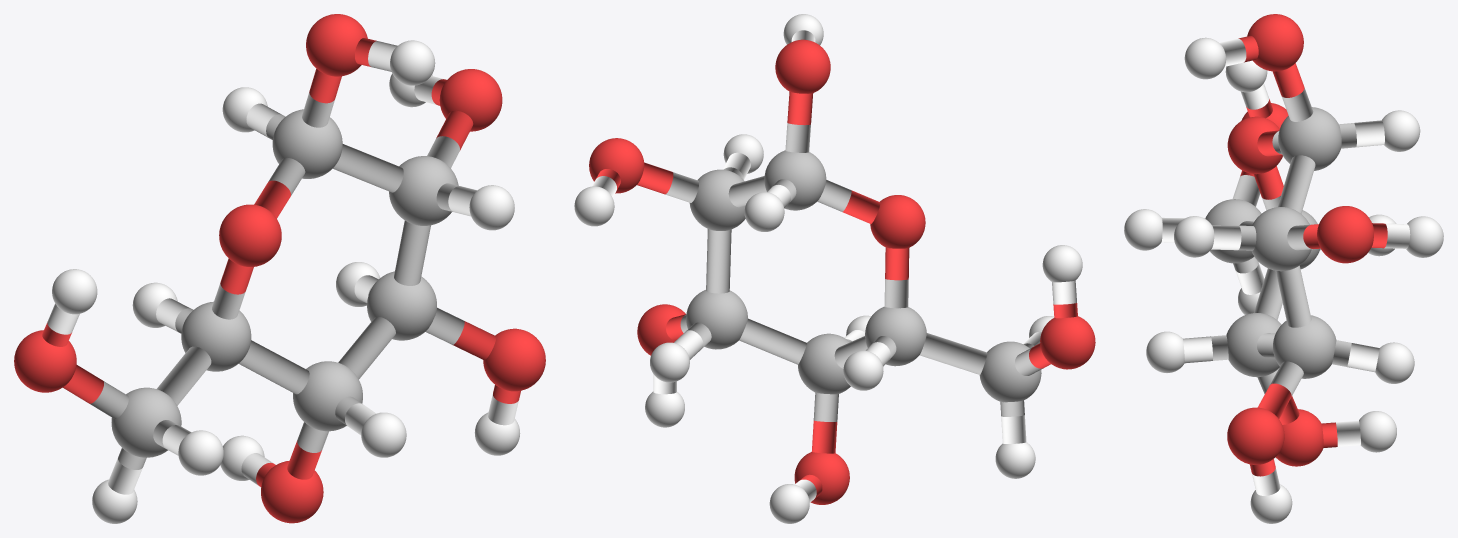
The model's file is glucose_molecule.glb.
The picture shows the model from 3 angles, left to right: view 1: azimuth 30°, elevation 25°; view 2: azimuth 150°, elevation 25°; view 3: azimuth 270°, elevation 25°; orthographic projection. The views are drawn at different scales.
Visible parts, largest first — view 1: Glucoseobjcleanermaterialmergergles; view 2: Glucoseobjcleanermaterialmergergles; view 3: Glucoseobjcleanermaterialmergergles.
Boxes of the visible parts, left/top/right/bottom form: Glucoseobjcleanermaterialmergergles: left=14, top=14, right=545, bottom=523; Glucoseobjcleanermaterialmergergles: left=574, top=14, right=1095, bottom=523; Glucoseobjcleanermaterialmergergles: left=1124, top=14, right=1443, bottom=523.
Bounding box in the file's own units: 6.72 × 6.19 × 3.88.
